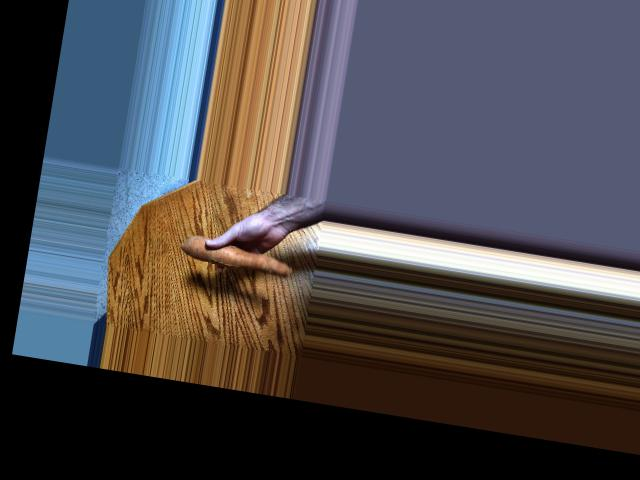sweet_potato: (181, 237, 299, 281)
